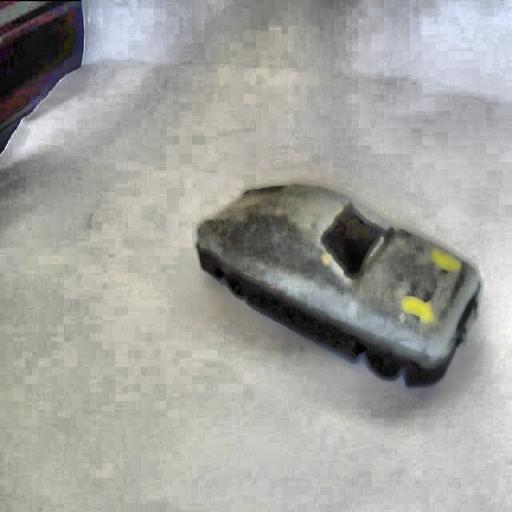normal_car: (190, 176, 486, 388)
